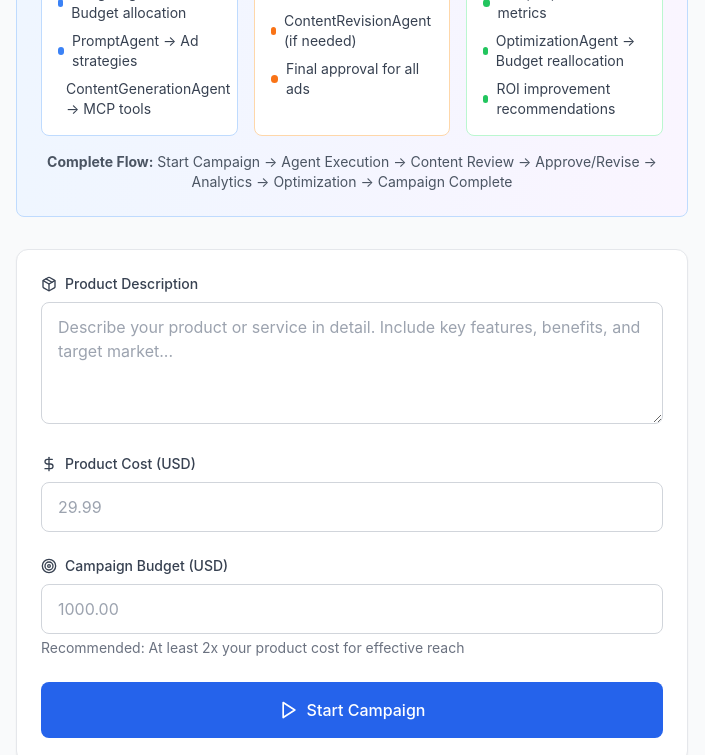
Test case: HomeTab Component › validates form fields correctly
(page scrolled)
Step 1. Click the button "Start Campaign" → point(352, 710), box left=41, top=682, right=663, bottom=738
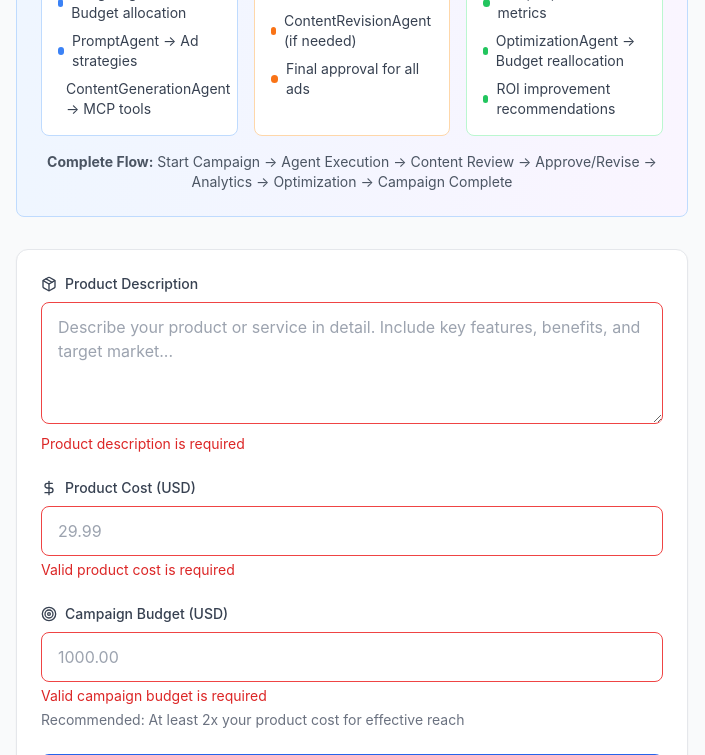
Result: the text "Product description is required" is shown at left=41, top=435, right=245, bottom=452
Result: the text "Valid product cost is required" is shown at left=41, top=561, right=235, bottom=578
Result: the text "Valid campaign budget is required" is shown at left=41, top=687, right=267, bottom=704
